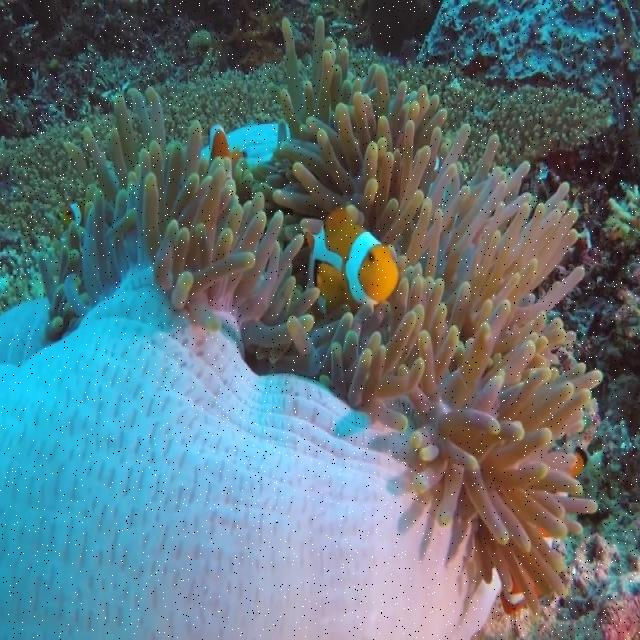fish: (304, 206, 399, 321), (209, 125, 247, 171), (64, 200, 84, 226)
reefs: (0, 16, 603, 639), (349, 44, 618, 177), (1, 112, 113, 314), (157, 51, 287, 145)
